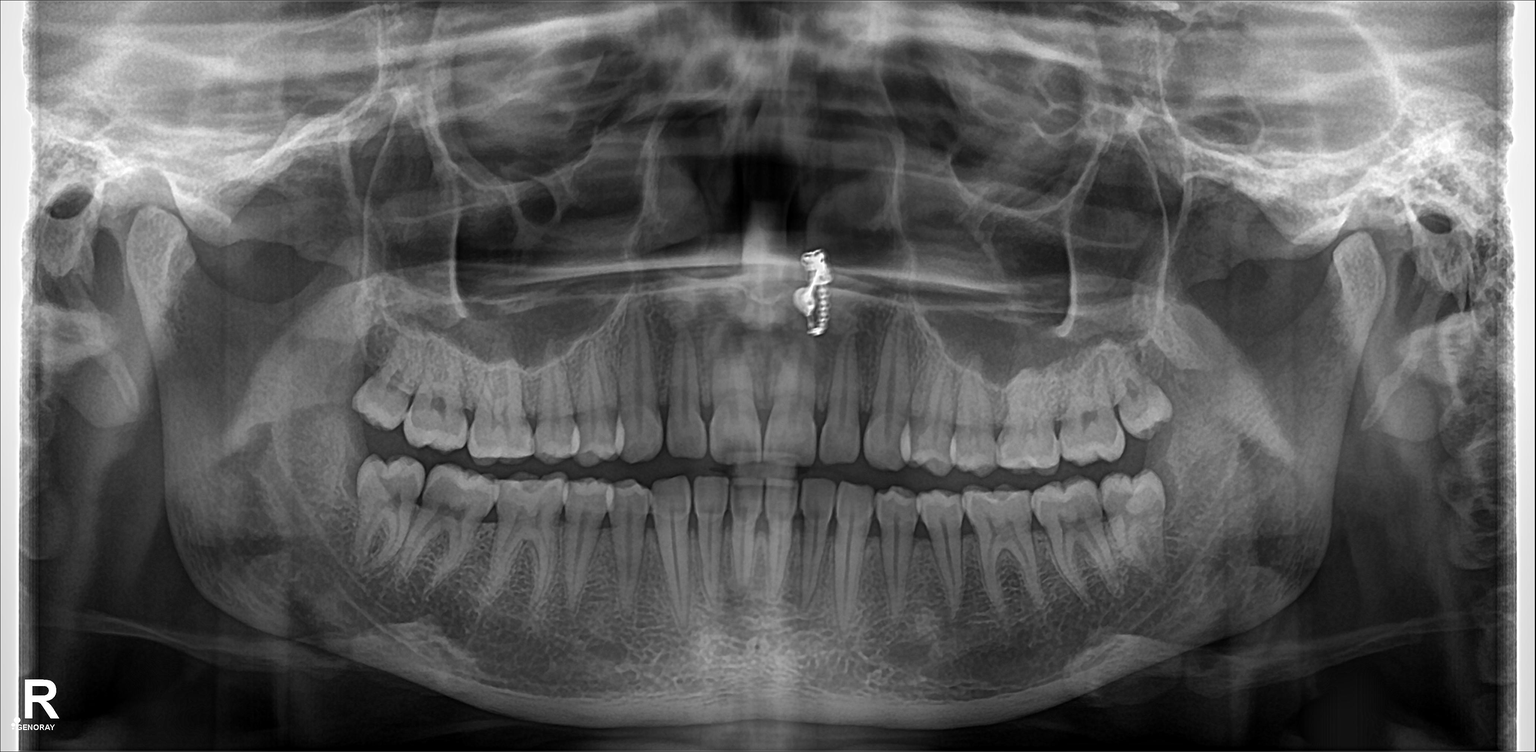Dental Caries: (419, 396, 456, 425), (1129, 374, 1158, 402), (1073, 413, 1107, 432)
